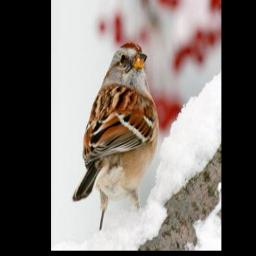Sparrow: (72, 40, 160, 233)
